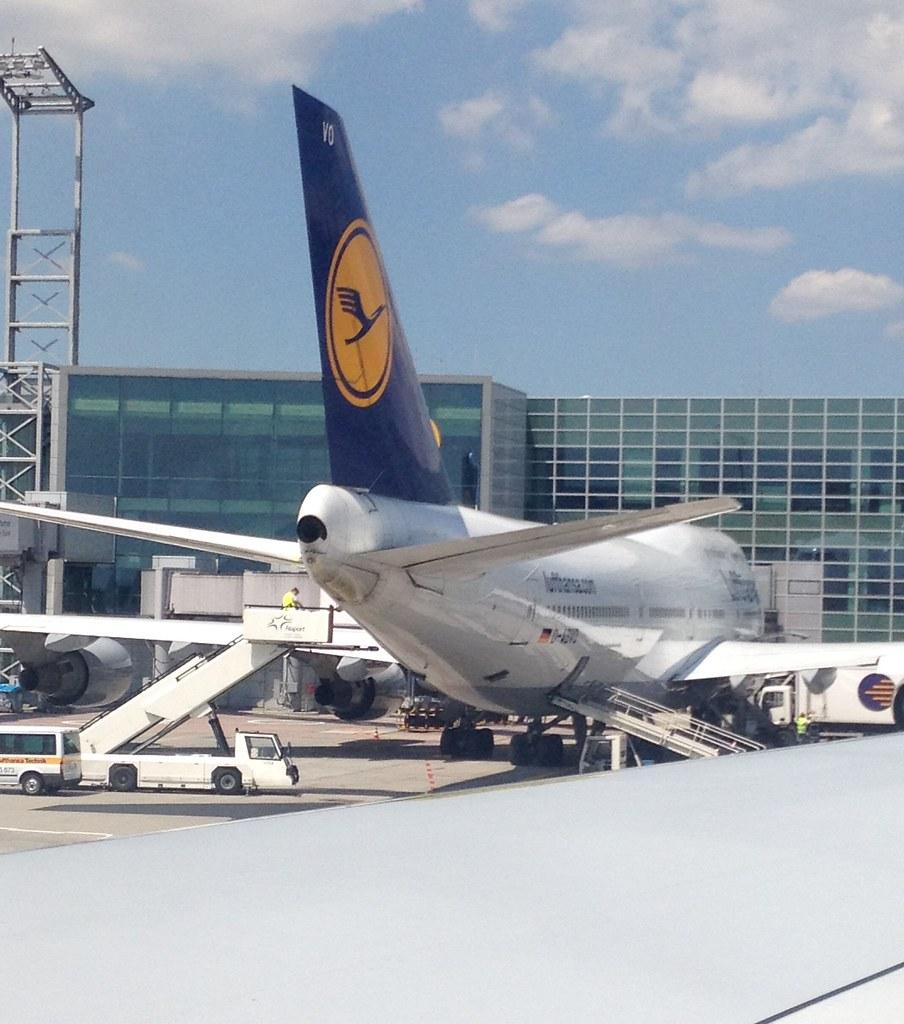plane: (2, 82, 902, 769)
